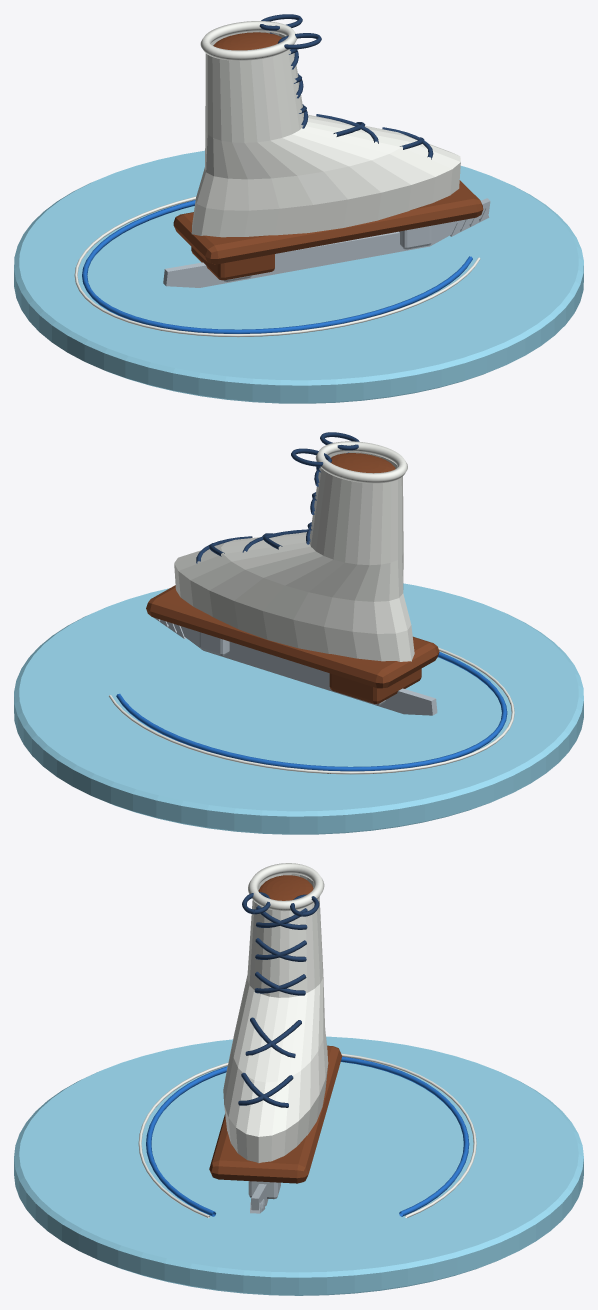
Rendered from figure_skating_women.glb.
The picture shows the model from 3 angles, top to bottom: view 1: azimuth 30°, elevation 25°; view 2: azimuth 150°, elevation 25°; view 3: azimuth 270°, elevation 25°; orthographic projection.
Parts seen in each view (by area): view 1: figure_skating_women; view 2: figure_skating_women; view 3: figure_skating_women.
Boxes of the visible parts, <box> form: figure_skating_women: <box>14,14,583,403</box>; figure_skating_women: <box>14,432,583,834</box>; figure_skating_women: <box>14,863,583,1295</box>.
Size of the model in its own units: 0.33 by 0.1706 by 0.33.
